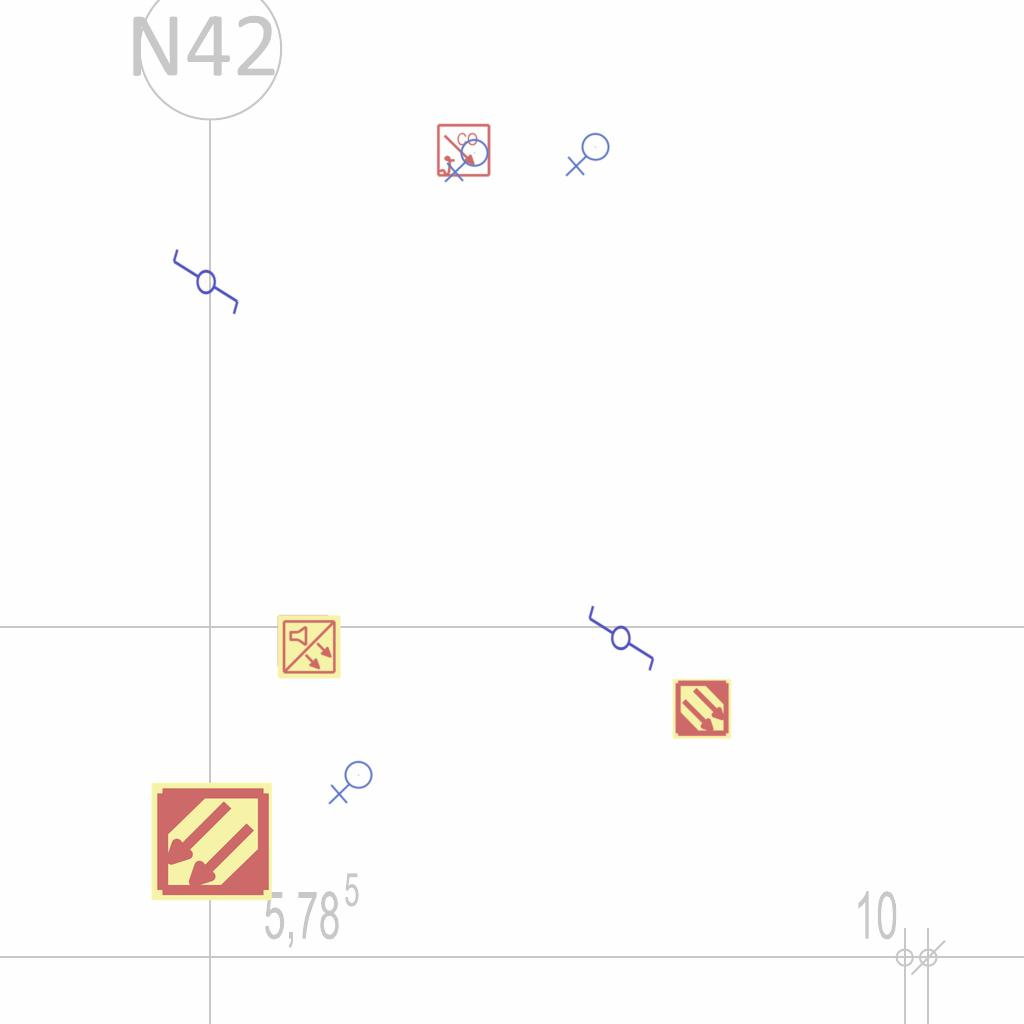ASR_Ansaugrauchmelder: (149, 779, 274, 904), (671, 678, 733, 740)
Elektroanschluss_allgemein_230V_Geraeteanschlussdose_230V: (565, 132, 614, 179), (328, 760, 377, 807), (444, 138, 493, 185)
OKW_Multisensormelder_(Kombination_optischer_Rauch-Kahlenmonoxid_Waerme-Melder): (276, 614, 342, 680)
ROA_Rauchmelder_optisch_mit_Signalgeber_(Sockelsirene): (436, 123, 492, 179)
Wechselschalter: (586, 595, 658, 673), (169, 247, 241, 325)
